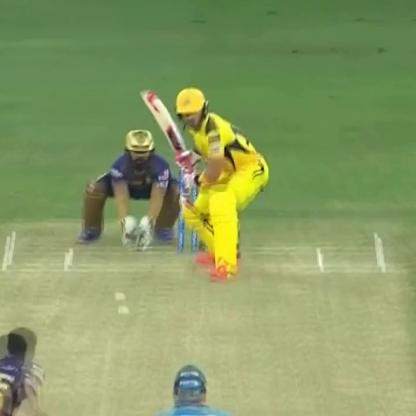ball: (114, 304, 136, 318), (110, 288, 128, 302)
bat: (142, 79, 200, 188)
pitch: (0, 226, 415, 415)
